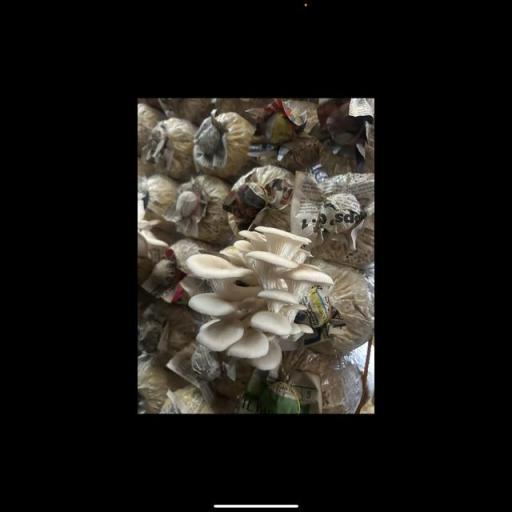White Oyster Mushroom: (180, 221, 334, 391)
